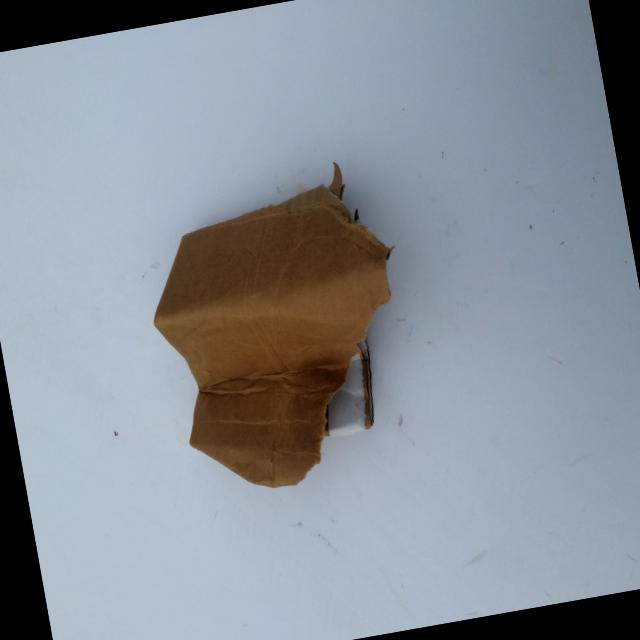Cardboard: (114, 114, 470, 556)
